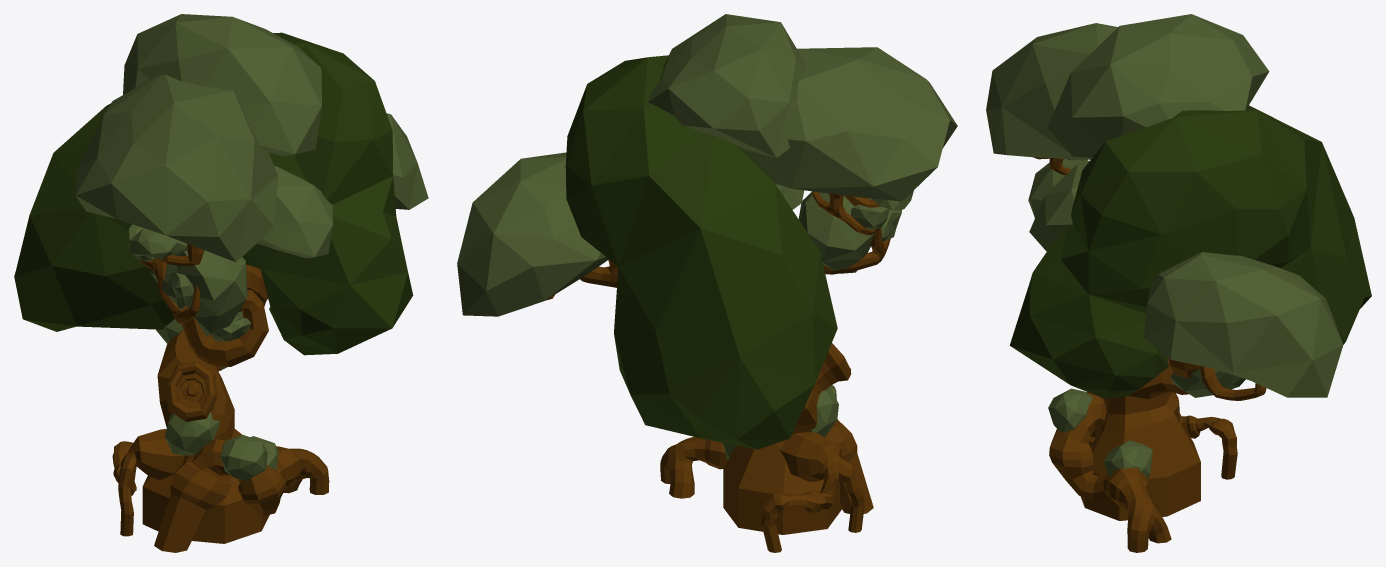
The model's file is Tree_Large_1.glb.
3 views of the same model, side by side, from view 1: azimuth 30°, elevation 25°; view 2: azimuth 150°, elevation 25°; view 3: azimuth 270°, elevation 25° (orthographic).
Visible parts, largest first — view 1: Tree_Large_1; view 2: Tree_Large_1; view 3: Tree_Large_1.
Part boxes in pixels (box(x1,y1,x2,y2)): Tree_Large_1: box(14, 14, 428, 552); Tree_Large_1: box(457, 14, 957, 552); Tree_Large_1: box(986, 14, 1371, 552).
Size of the model in its own units: 5.82 by 6.76 by 4.92.
1 material, 1 textured.
